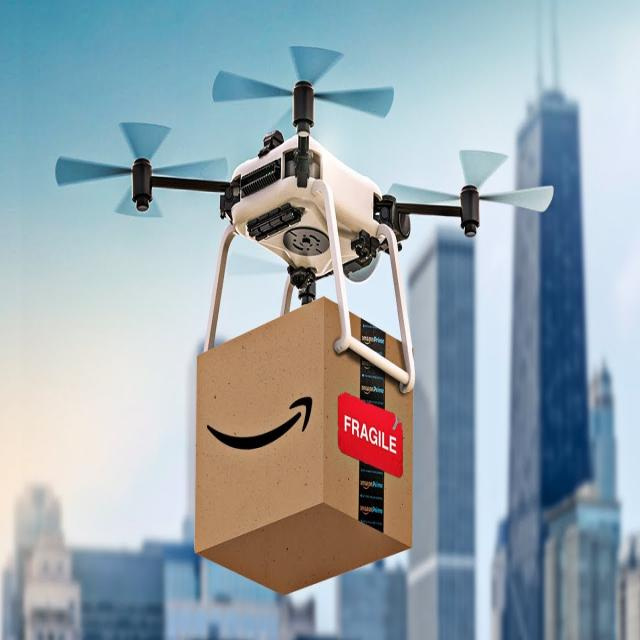drones: (50, 25, 559, 383)
